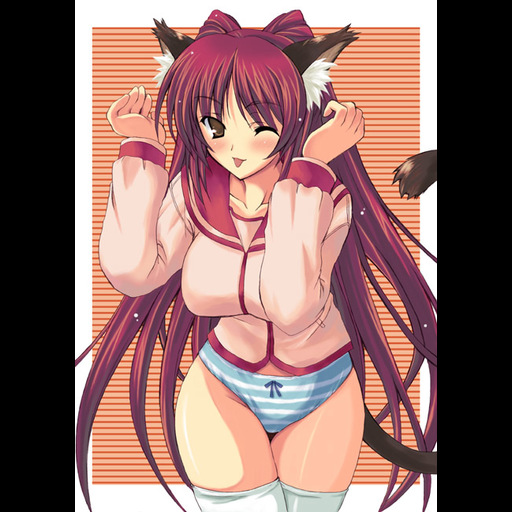face: (195, 99, 287, 183)
